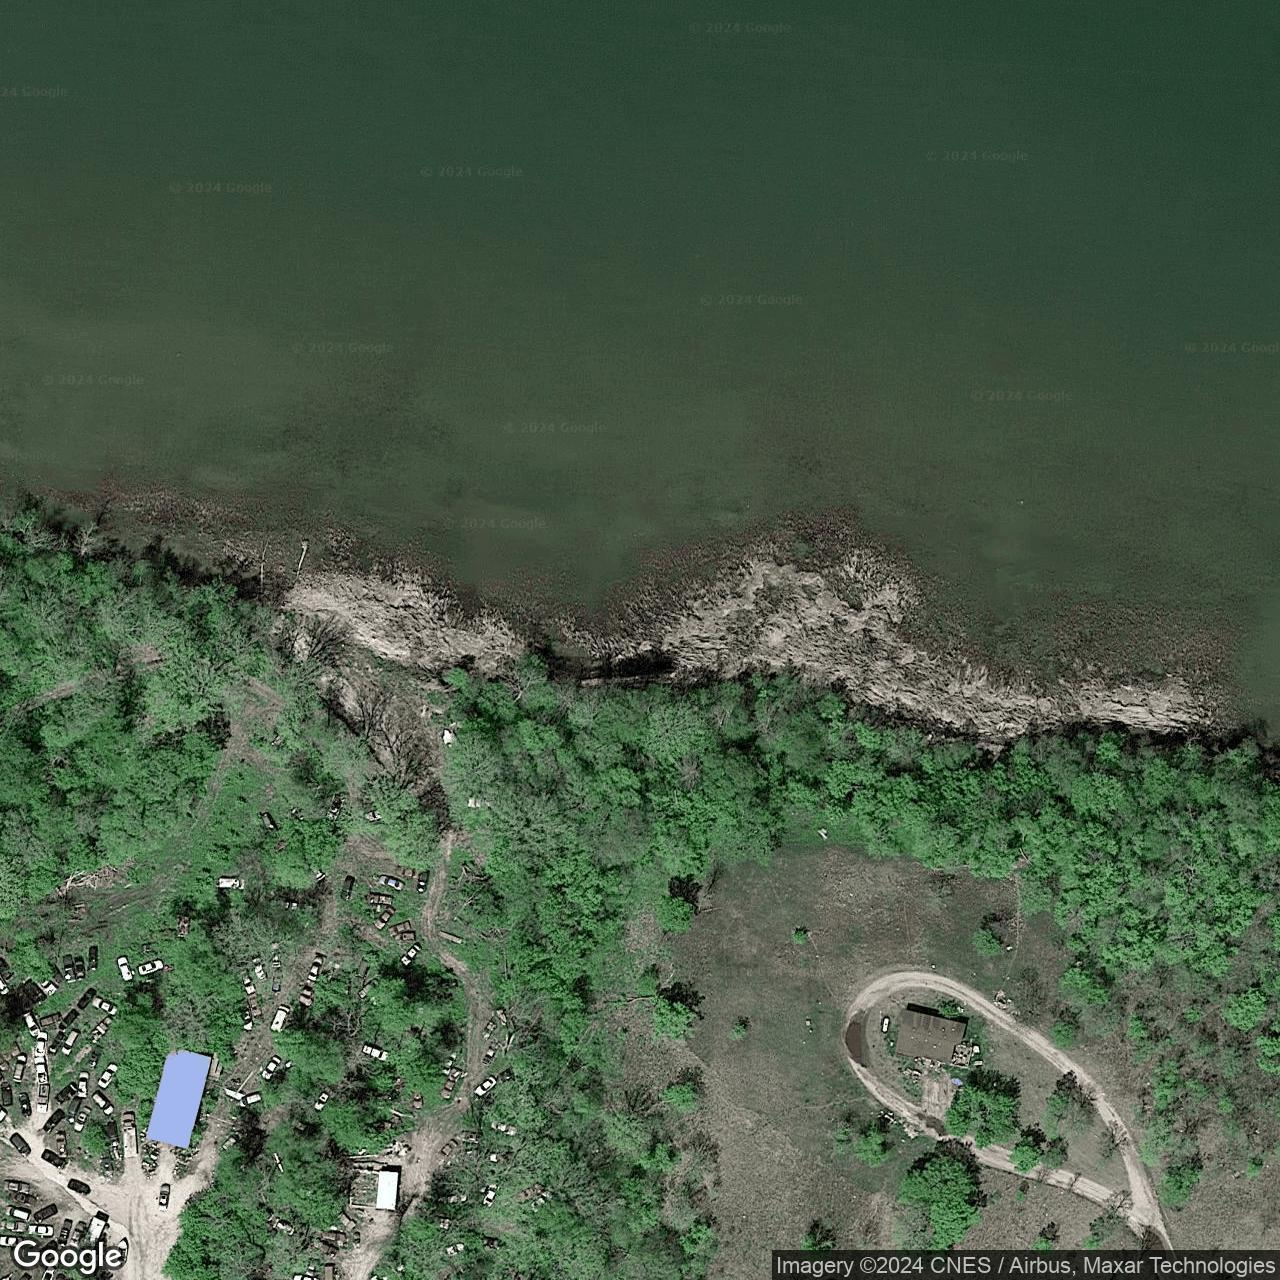Garage: (147, 1048, 212, 1150)
House: (893, 1009, 967, 1064)
Propane: (880, 1016, 891, 1034)
